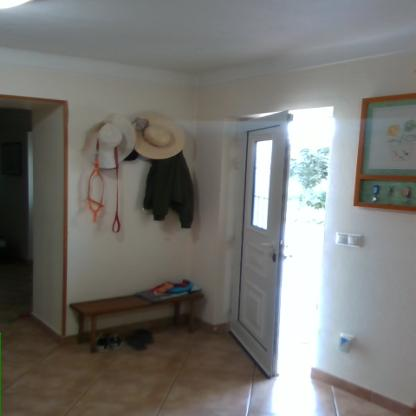semi: (226, 104, 350, 388)
